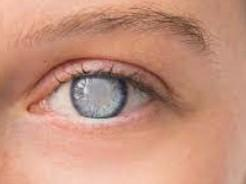eye: (71, 73, 129, 121)
